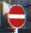No entry: (6, 5, 26, 28)
